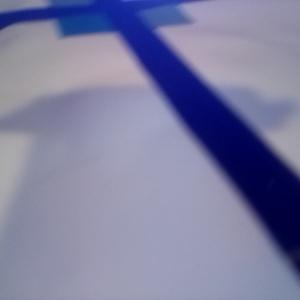bottom_left: (58, 5, 135, 36)
bottom_right: (116, 1, 188, 30)
top_left: (49, 1, 107, 12)
